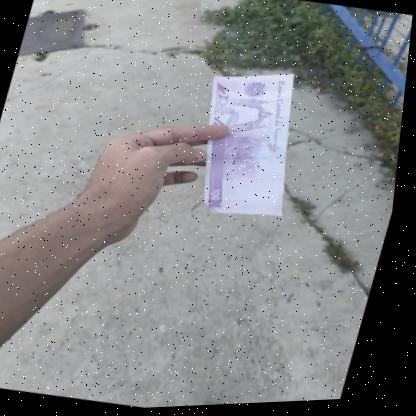one_hundred-back-vef: (178, 60, 325, 231)
